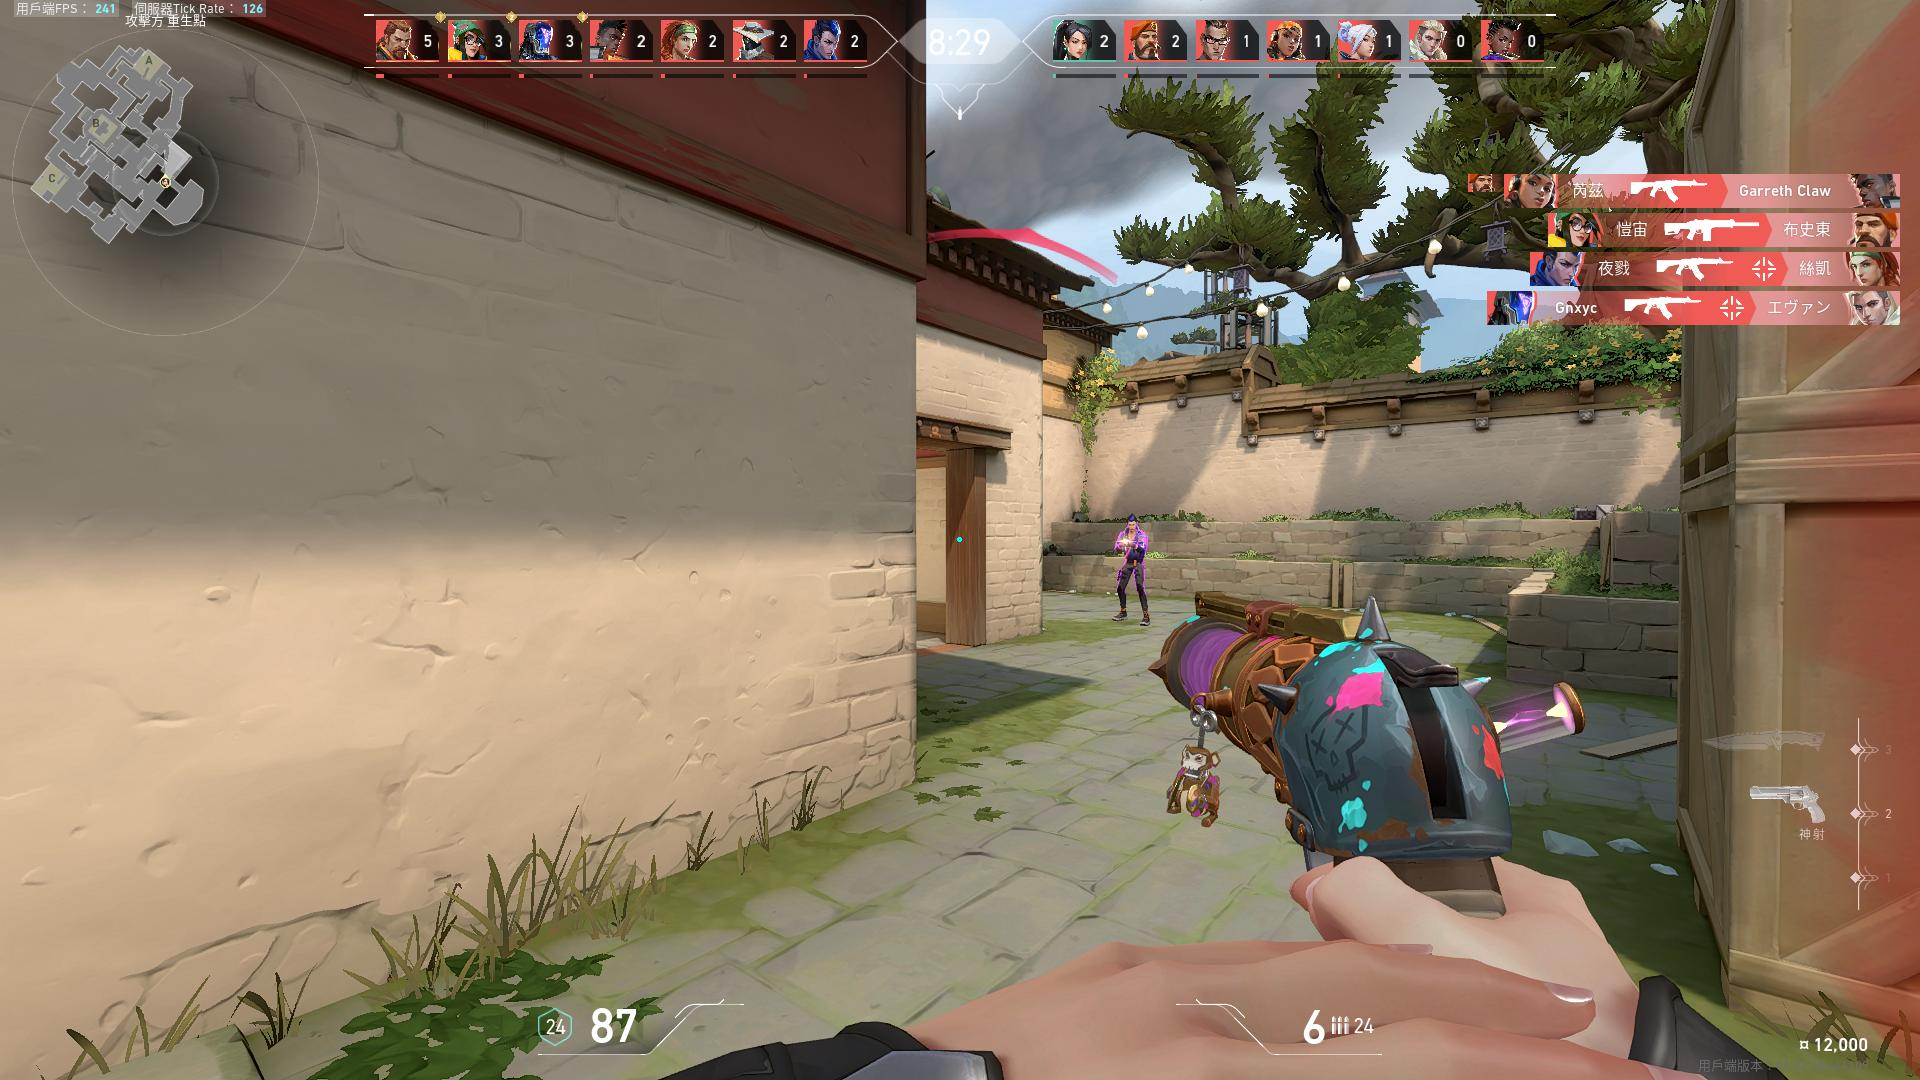enemyBody: (1126, 533, 1139, 560)
enemyHead: (1127, 521, 1135, 531)
